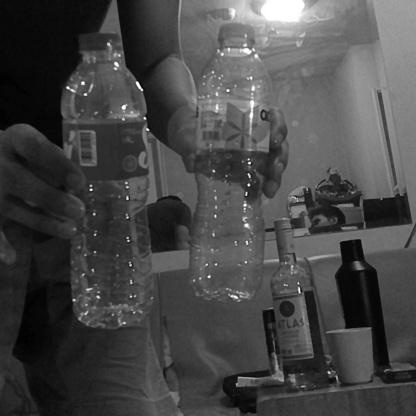plastic_bottles: (61, 29, 158, 330), (187, 25, 273, 301)
